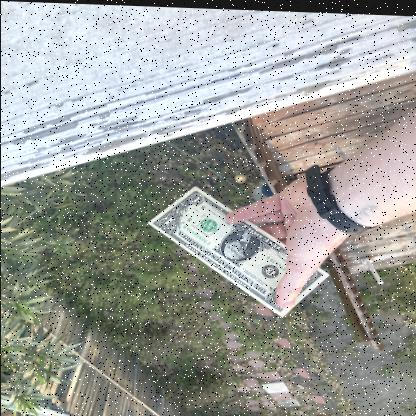one-front: (146, 185, 331, 317)
